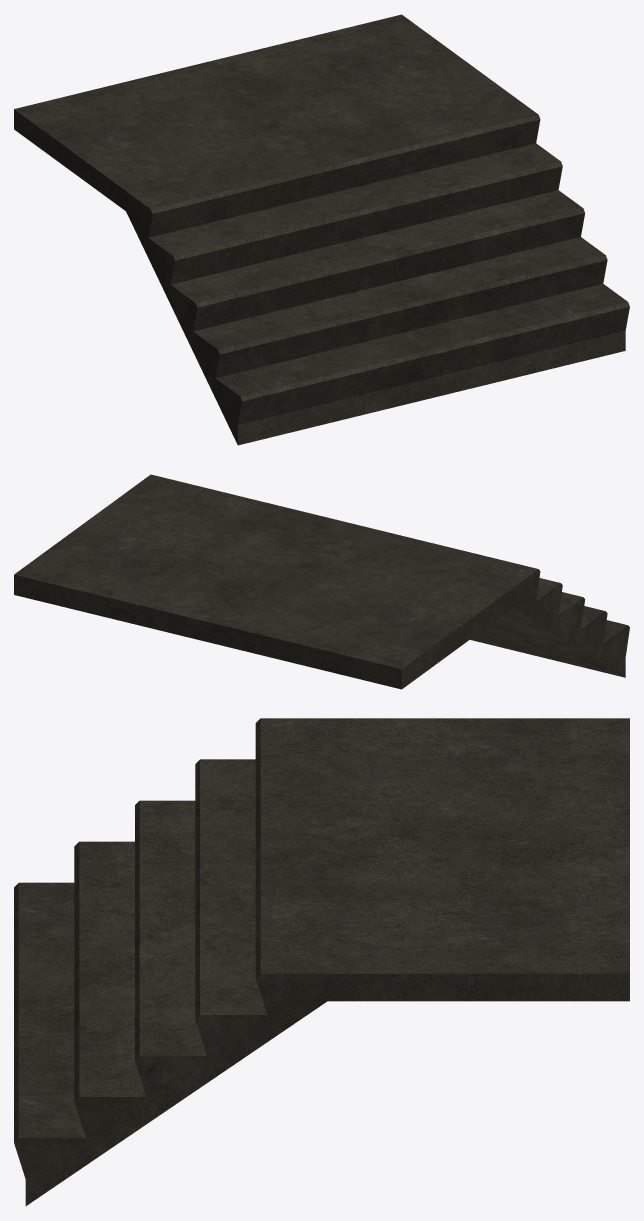
File: stairs_4.obj
3 views of the same model, one above another, from view 1: azimuth 30°, elevation 25°; view 2: azimuth 150°, elevation 25°; view 3: azimuth 270°, elevation 25° (orthographic). The views are drawn at different scales.
Parts seen in each view (by area): view 1: stairs_4; view 2: stairs_4; view 3: stairs_4.
Part boxes in pixels (bbox=[...]): stairs_4: bbox=[14, 14, 629, 445]; stairs_4: bbox=[14, 474, 629, 689]; stairs_4: bbox=[14, 718, 629, 1205].
Bounding box in the file's own units: 4 × 1.7 × 4.08.
